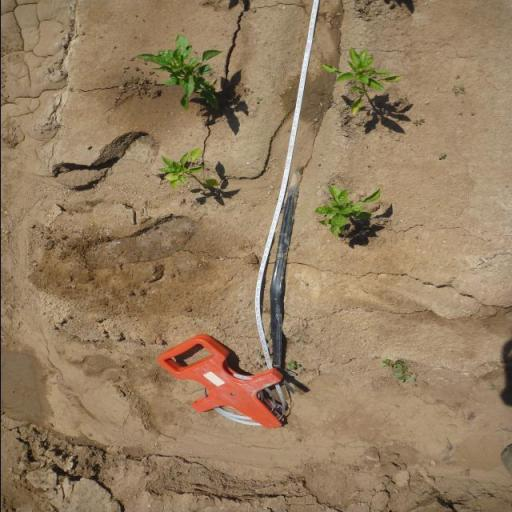plant: (130, 33, 224, 112), (316, 44, 408, 122), (312, 180, 384, 239), (151, 145, 222, 193)
weed: (378, 358, 419, 384), (451, 83, 467, 98), (285, 360, 303, 371), (488, 382, 504, 392), (412, 117, 426, 128), (253, 348, 262, 358), (436, 152, 446, 160), (254, 96, 262, 104), (150, 224, 157, 230), (296, 339, 306, 343), (392, 404, 400, 408), (202, 212, 208, 216)
